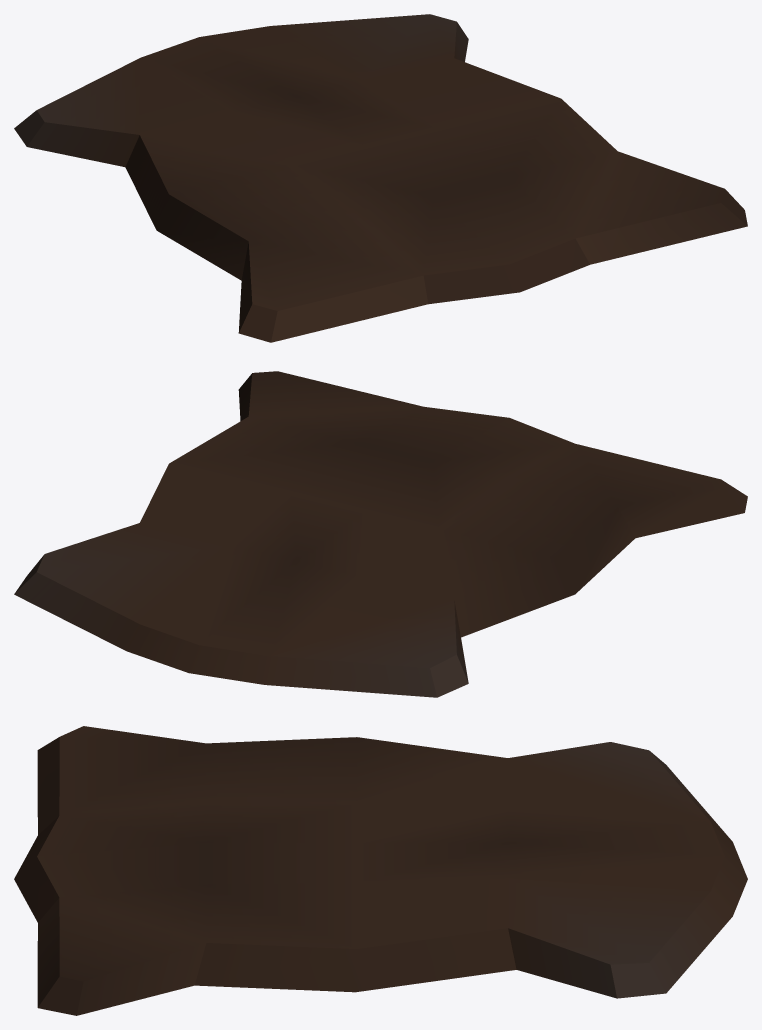
File: Fur.fbx
The picture shows the model from 3 angles, top to bottom: view 1: azimuth 30°, elevation 25°; view 2: azimuth 150°, elevation 25°; view 3: azimuth 270°, elevation 25°; orthographic projection. The views are drawn at different scales.
Visible parts, largest first — view 1: pPlane1; view 2: pPlane1; view 3: pPlane1.
Part boxes in pixels (x1,y1,x2,y2): pPlane1: (14,14,747,342); pPlane1: (14,371,747,697); pPlane1: (14,726,747,1015).
Size of the model in its own units: 3.05 by 0.1873 by 3.46.
